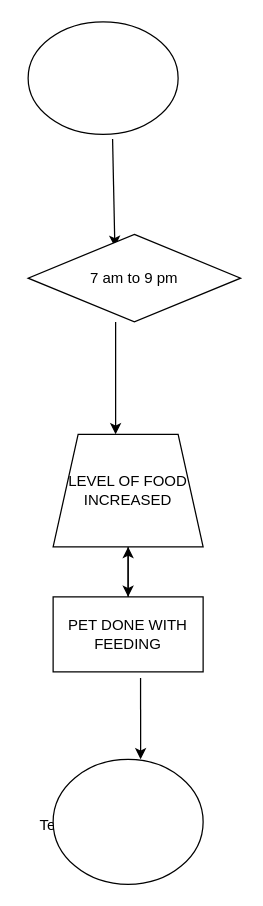
The diagram is 263 pixels wide and 906 high, and some of its shapes have lost their labels. Here are the shapes that lost their labels. From the top down, the centre of each, then its label:
point (102, 77): INITIALIZATION
point (127, 821): not empty bowl
